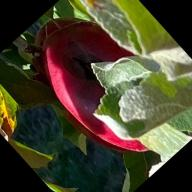Apples: (11, 6, 167, 168), (28, 11, 182, 170)
